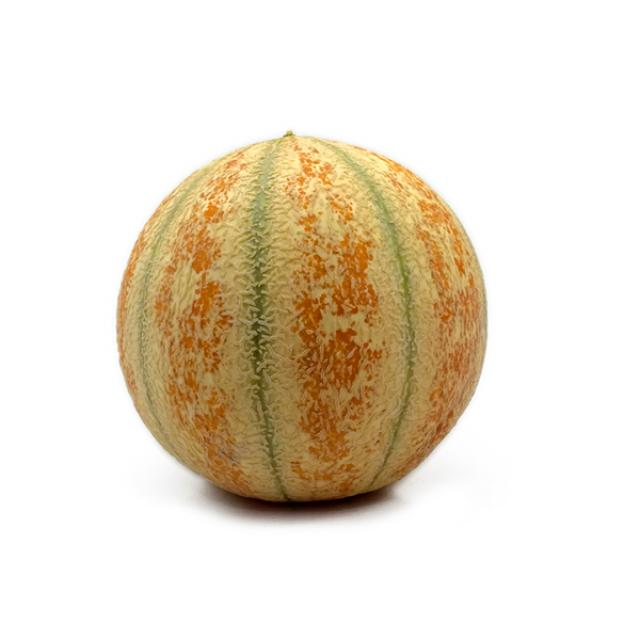melon: (112, 128, 492, 512)
